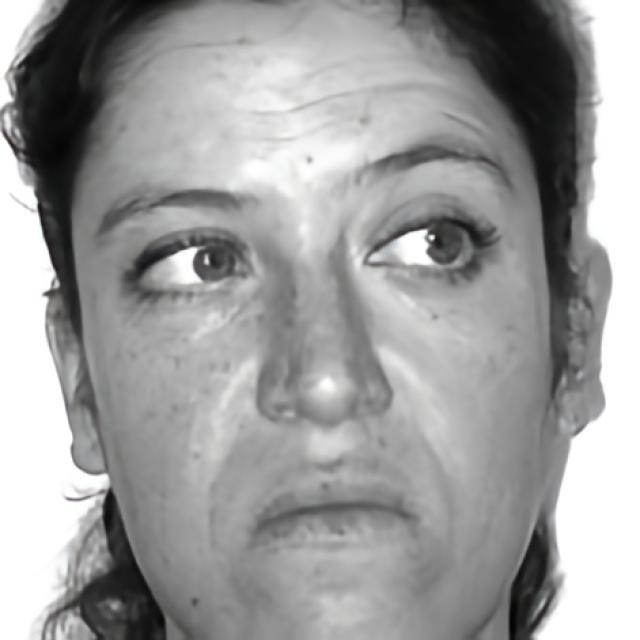disgust: (81, 32, 558, 640)
